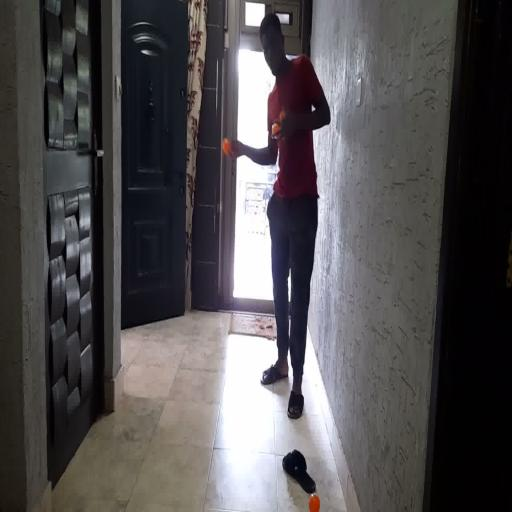plastic-ball: (309, 492, 322, 512)
